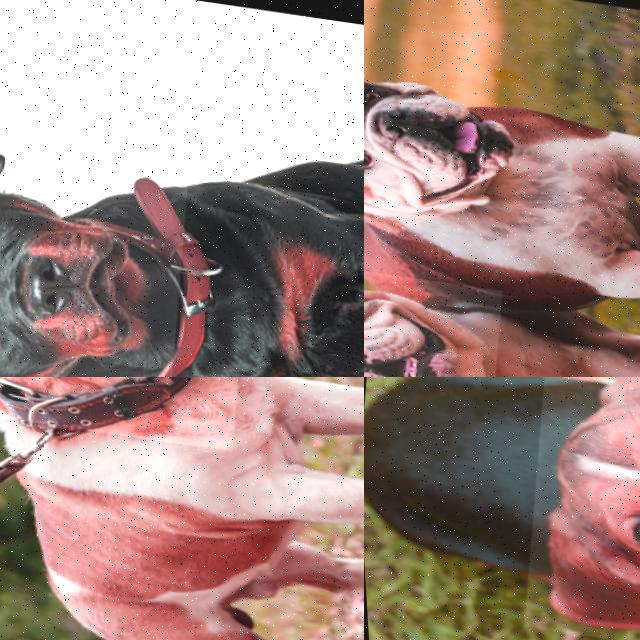beagle: (502, 377, 640, 640)
bulldog: (364, 18, 553, 254), (0, 377, 260, 452), (364, 250, 506, 377)
rottweiler: (0, 112, 201, 377)
